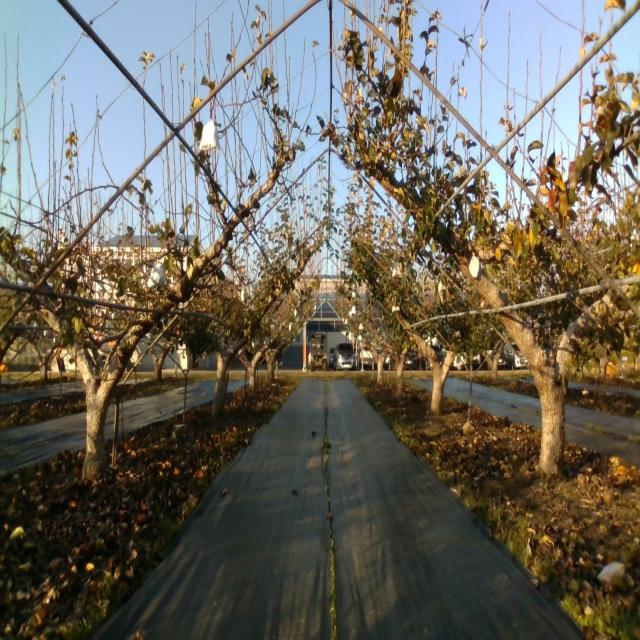pearbags: (199, 119, 216, 150), (146, 262, 166, 288), (469, 250, 481, 280)
